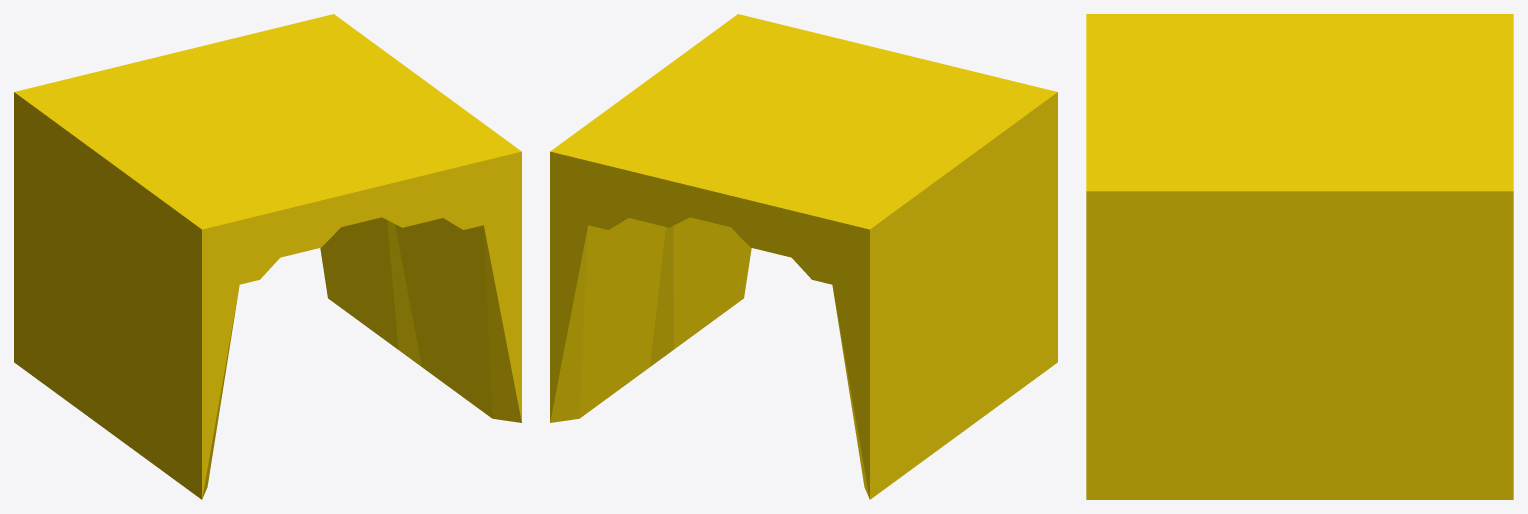
Rendered from crocArch.gltf.
3 views of the same model, side by side, from view 1: azimuth 30°, elevation 25°; view 2: azimuth 150°, elevation 25°; view 3: azimuth 270°, elevation 25° (orthographic). The views are drawn at different scales.
Parts seen in each view (by area): view 1: Cube; view 2: Cube; view 3: Cube.
Boxes of the visible parts, x1=… form: Cube: x1=14, y1=14, x2=521, y2=499; Cube: x1=550, y1=14, x2=1057, y2=499; Cube: x1=1086, y1=14, x2=1513, y2=499.
Bounding box in the file's own units: 9.94 × 8.06 × 10.12.
